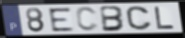8: (25, 7, 46, 34)
B: (100, 5, 127, 33)
C: (124, 5, 153, 31), (75, 6, 101, 33)
E: (47, 6, 76, 33)
L: (153, 6, 177, 31)
